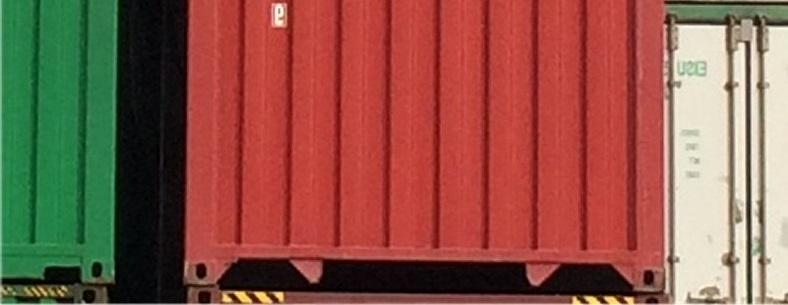container_no_door: (180, 1, 663, 285)
